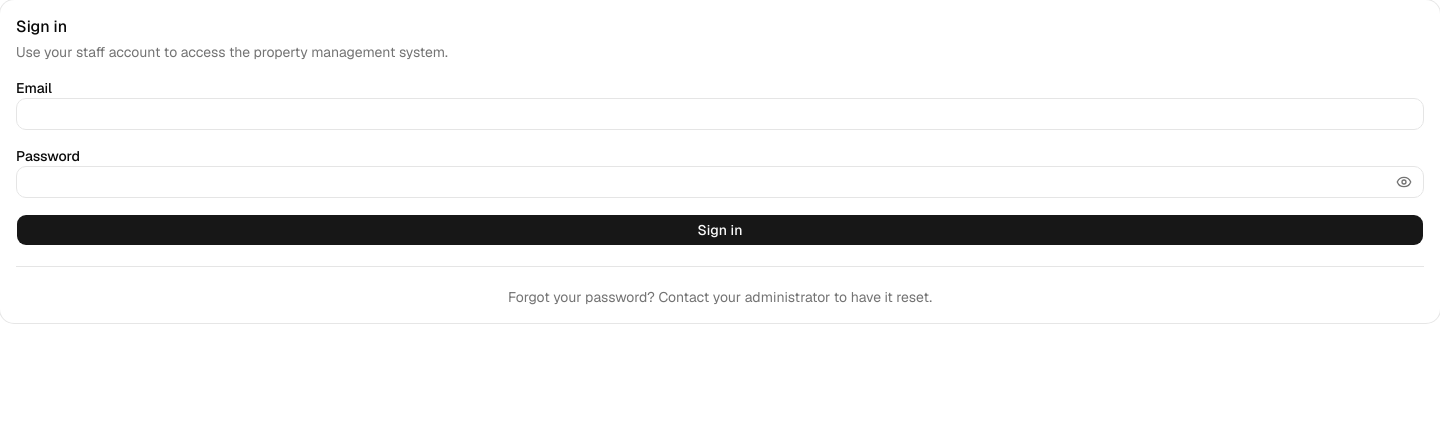
Test case: LoginForm › shows the disabled-account alert on a 403 problem response
The width and height of the screenshot is (1440, 421).
Type "ada@hotm.test" into the field labelled "Email" at [720, 114], box [16,98,1424,130]
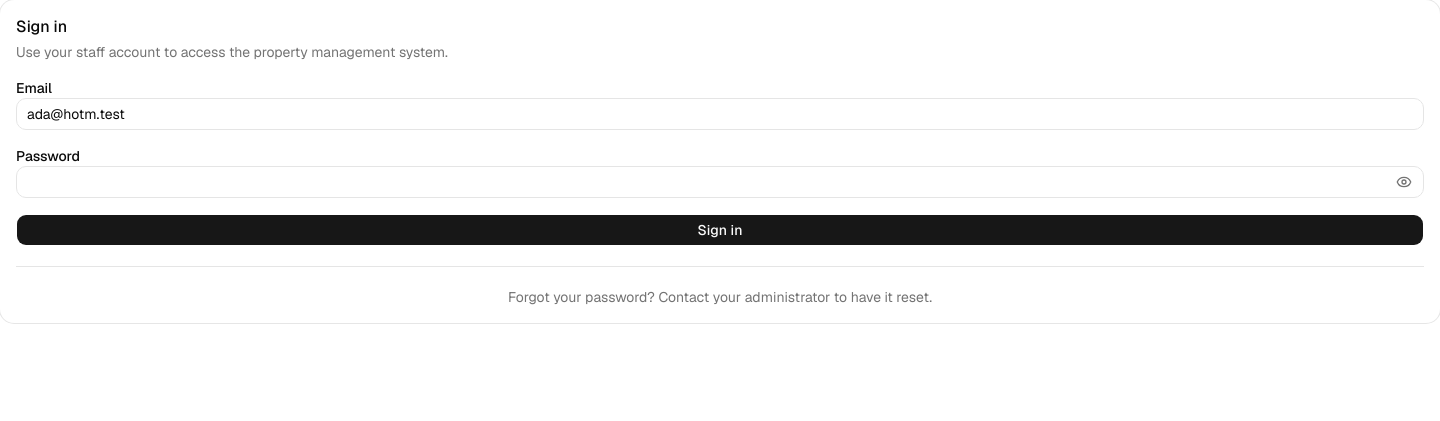
Type "GoodPass123!" into the password field labelled "Password" at [720, 182], box [16,166,1424,198]
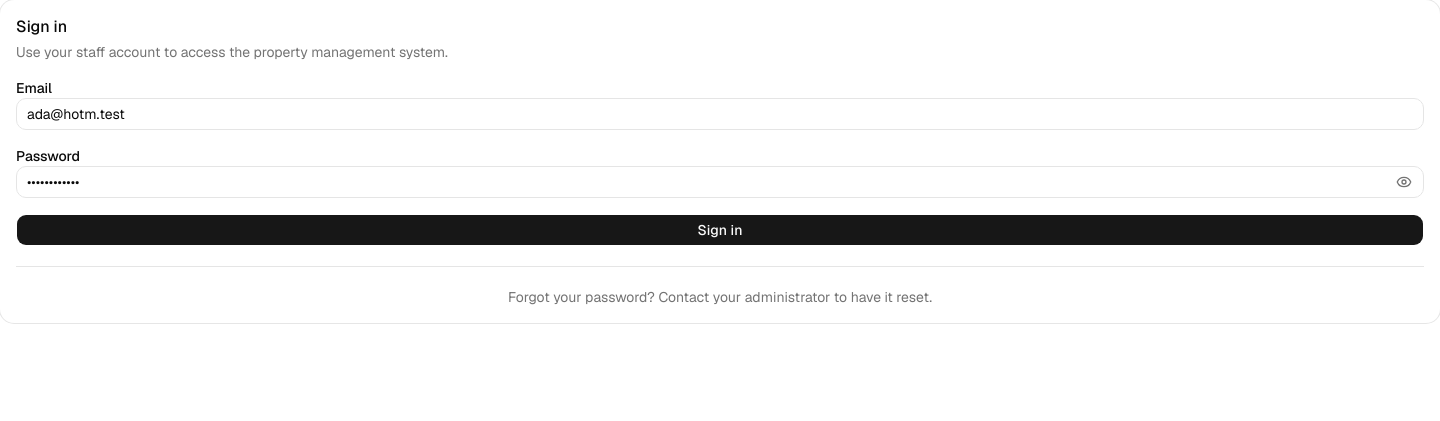
Click the button "Sign in" at [720, 230], box [16,214,1424,246]
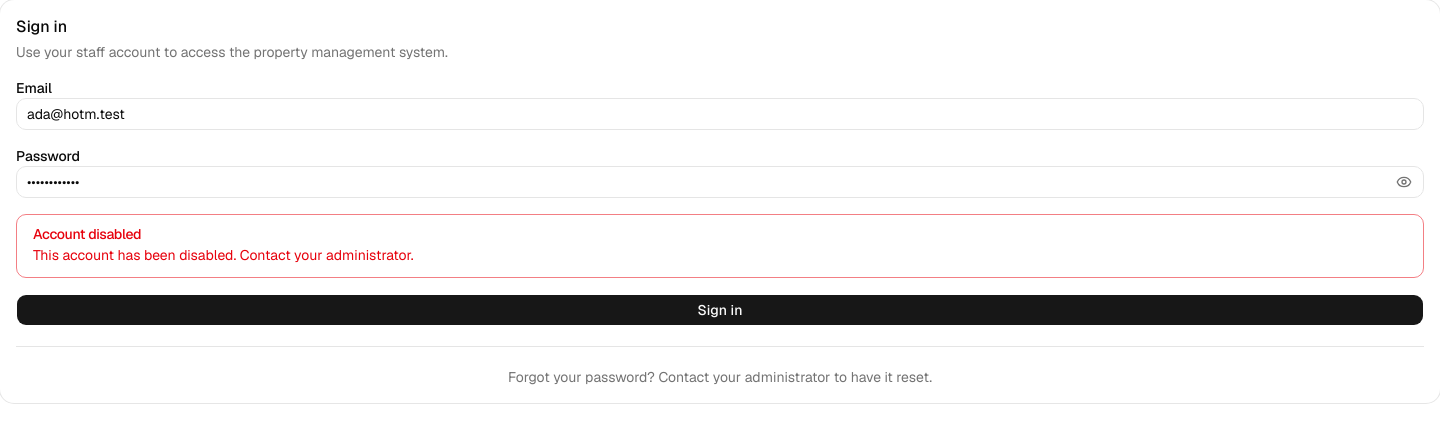
expect the heading "Account disabled" is shown: met, box [33,225,141,243]
